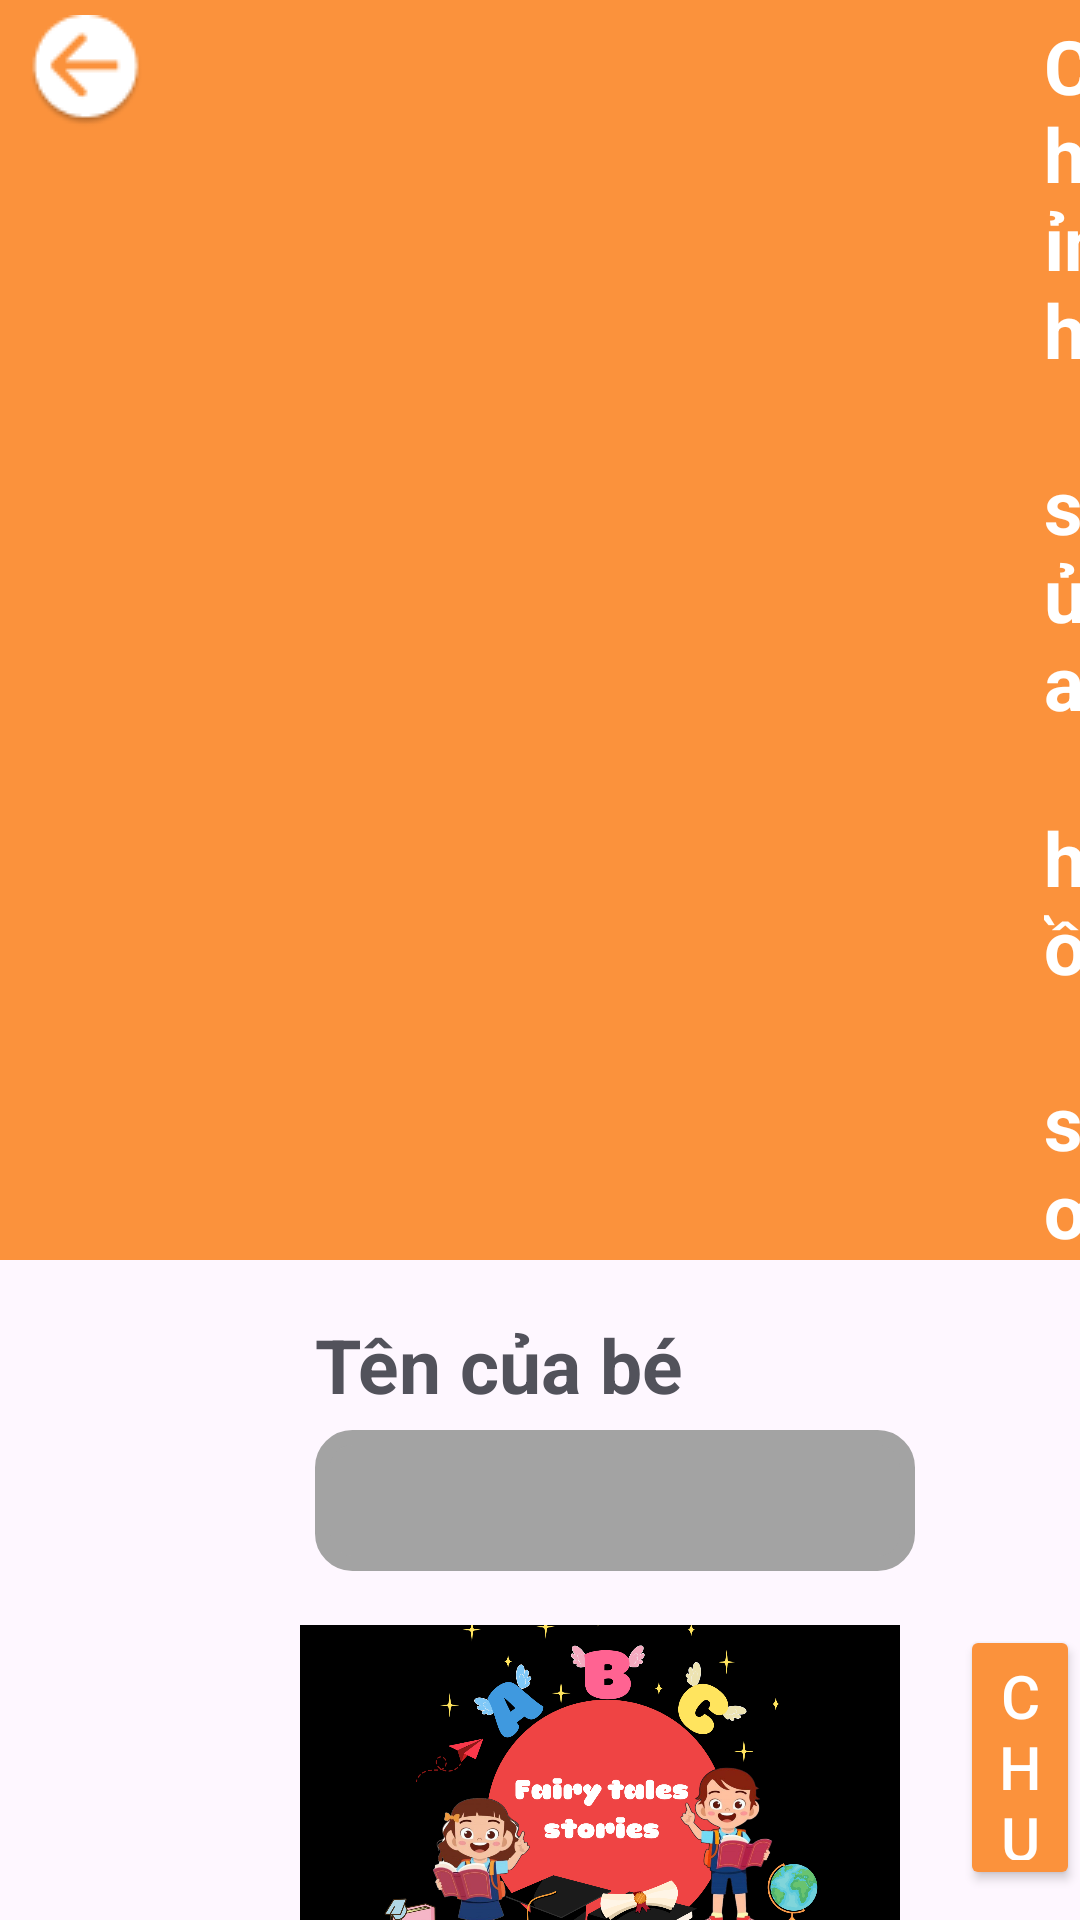

Icons on this 1080 × 1920 Android screen, each with its box as (x1, y1, x2, y2):
exit: (32, 15, 139, 122)
